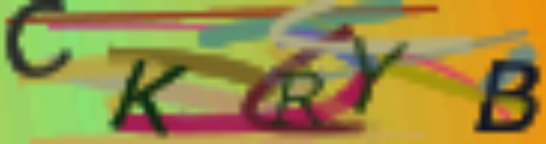B: (469, 55, 543, 139)
C: (5, 1, 74, 82)
K: (113, 57, 191, 138)
R: (275, 68, 325, 132)
Y: (346, 34, 413, 118)
